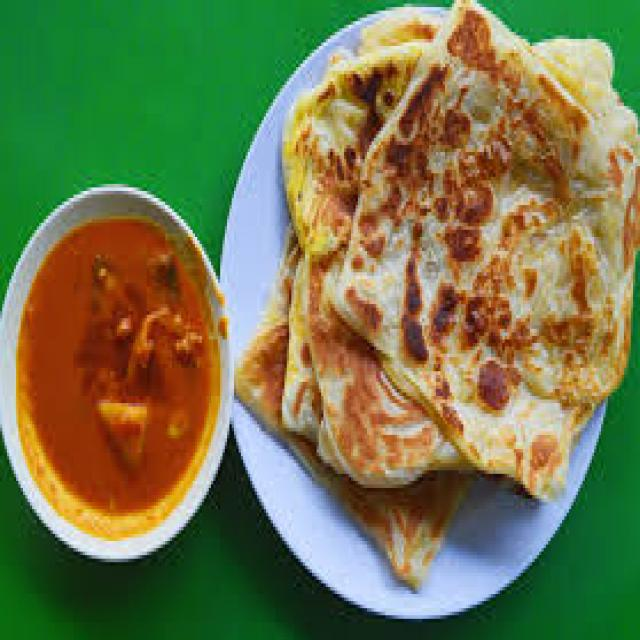Paratha: (238, 0, 640, 594)
